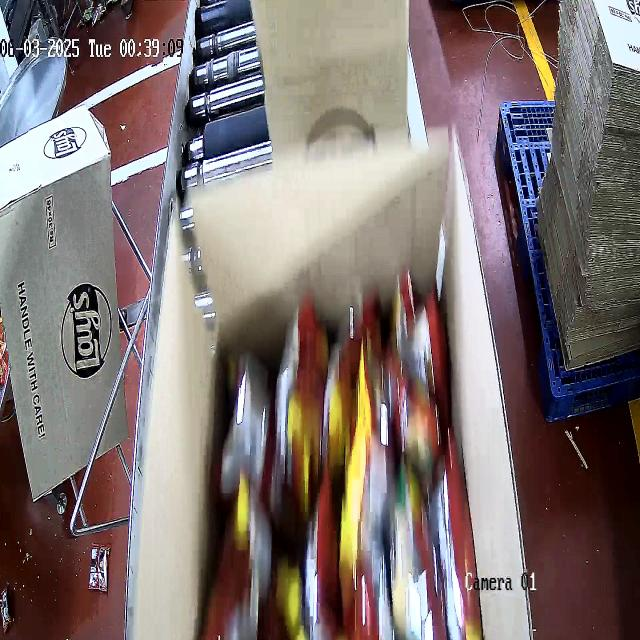MASALA: (207, 268, 480, 638)
